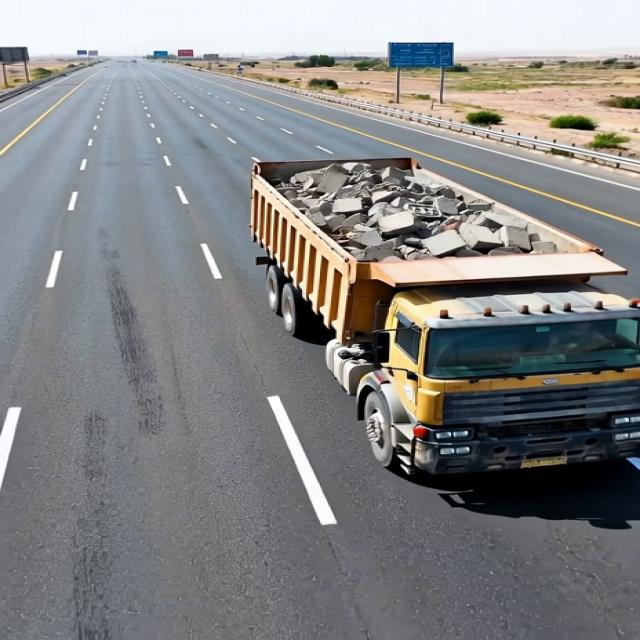Box: (197, 157, 632, 269)
Truck: (182, 119, 640, 497)
